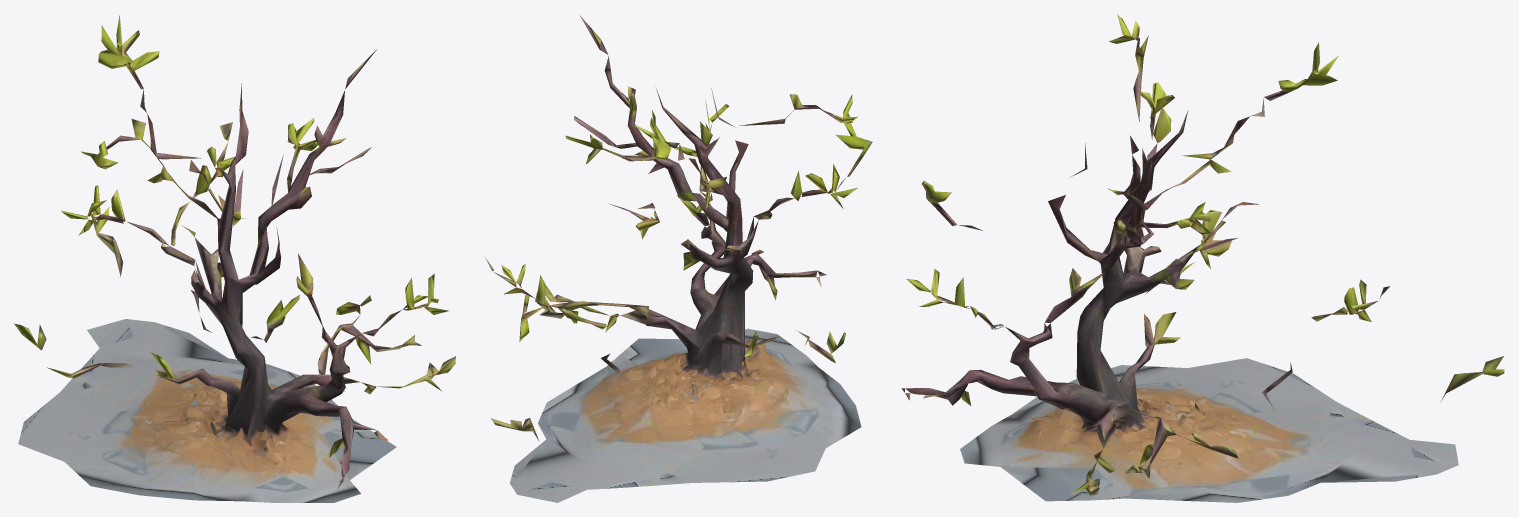
File: dry-shrub.lod.glb
3 views of the same model, side by side, from view 1: azimuth 30°, elevation 25°; view 2: azimuth 150°, elevation 25°; view 3: azimuth 270°, elevation 25° (orthographic). The views are drawn at different scales.
Bounding box in the file's own units: 1.29 × 1.21 × 1.71.
Materials: 1 (1 with a texture image).
